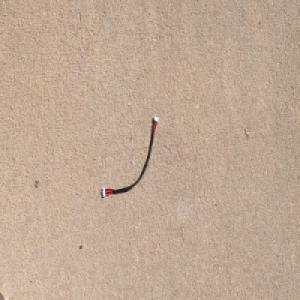Wire: (101, 115, 159, 199)
